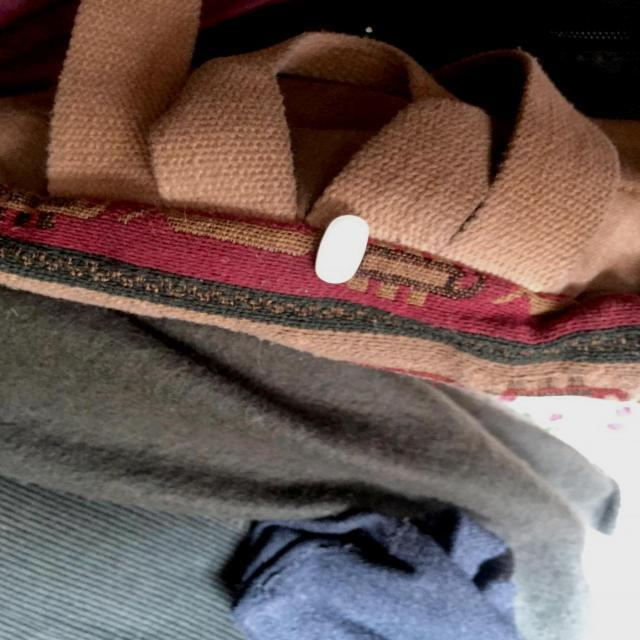pill: (310, 212, 370, 285)
